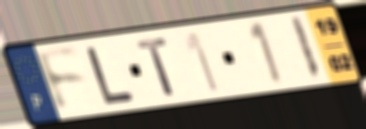1: (183, 28, 222, 95), (247, 19, 286, 86)
F: (33, 46, 90, 116)
I: (287, 14, 325, 83)
L: (83, 44, 138, 107)
T: (134, 35, 179, 98)
